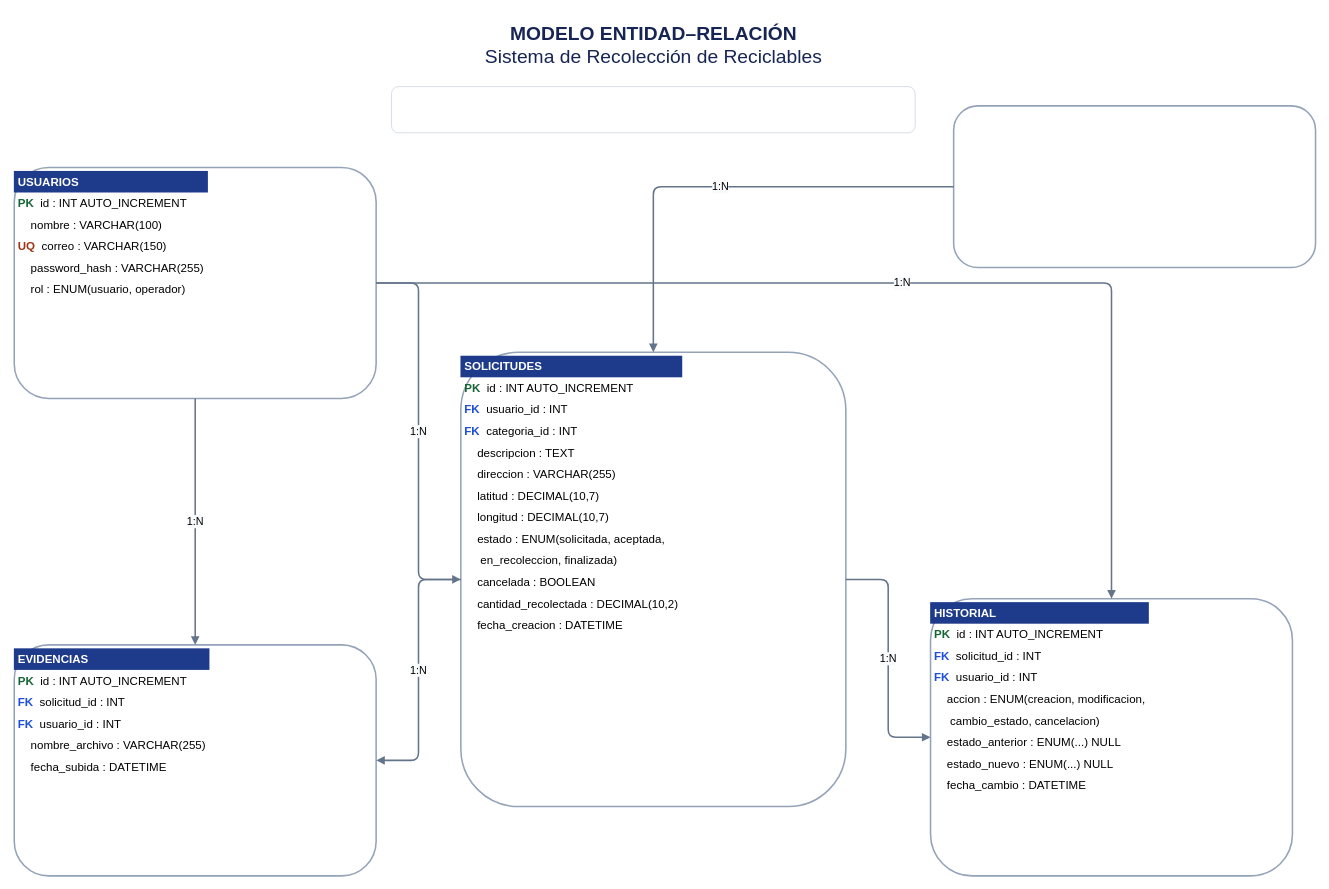
This 1329x889 diagram has some shape labels left out. The centre of each missing label's shape, as x and y in pixels:
"CATEGORIAS PK id : INT AUTO_INCREMENT UQ nombre : VARCHAR(80)" belongs at [1134,186].
"PK Clave primaria FK Clave foránea UQ Único Relaciones: uno a muchos (1:N)" belongs at [653,109].
